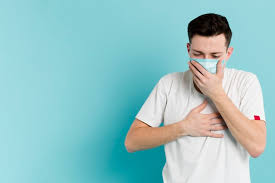masked: (178, 10, 235, 104)
